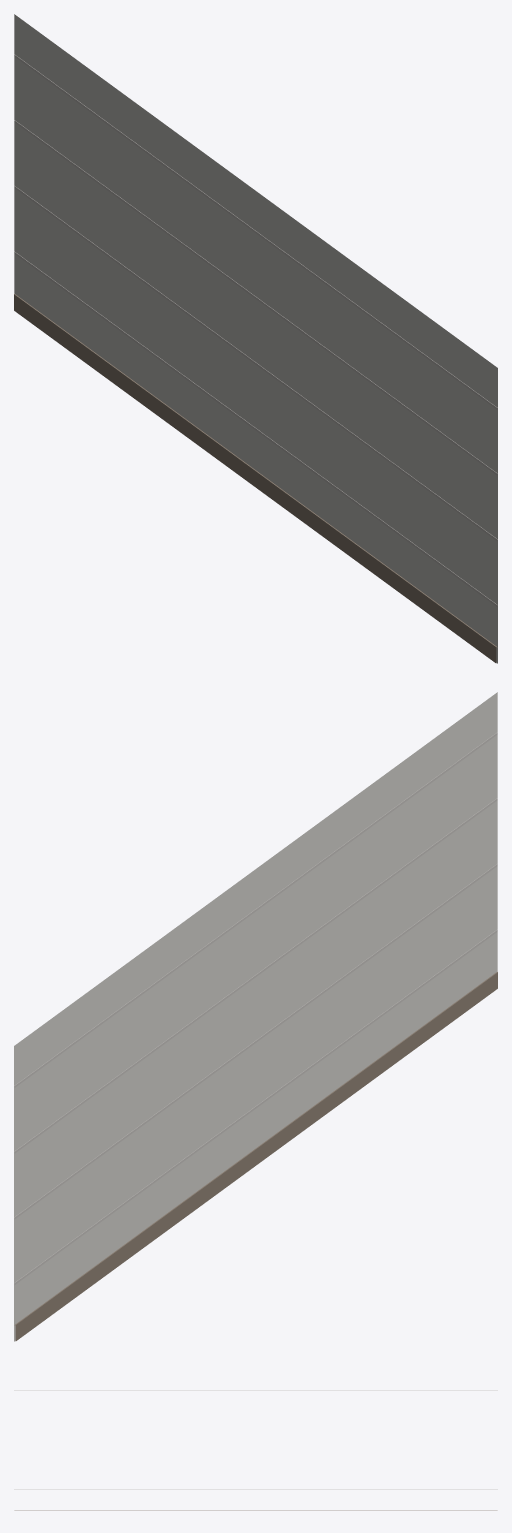
File: CR_FrontWall.glb
3 views of the same model, one above another, from view 1: azimuth 30°, elevation 25°; view 2: azimuth 150°, elevation 25°; view 3: azimuth 270°, elevation 25° (orthographic). The views are drawn at different scales.
Parts seen in each view (by area): view 1: Front_Wall; view 2: Front_Wall; view 3: Front_Wall.
Part boxes in pixels (x1,y1,x2,y2): Front_Wall: [14, 14, 497, 663]; Front_Wall: [14, 692, 497, 1341]; Front_Wall: [14, 1390, 497, 1510].
Bounding box in the file's own units: 0.0101 × 2.7 × 8.
